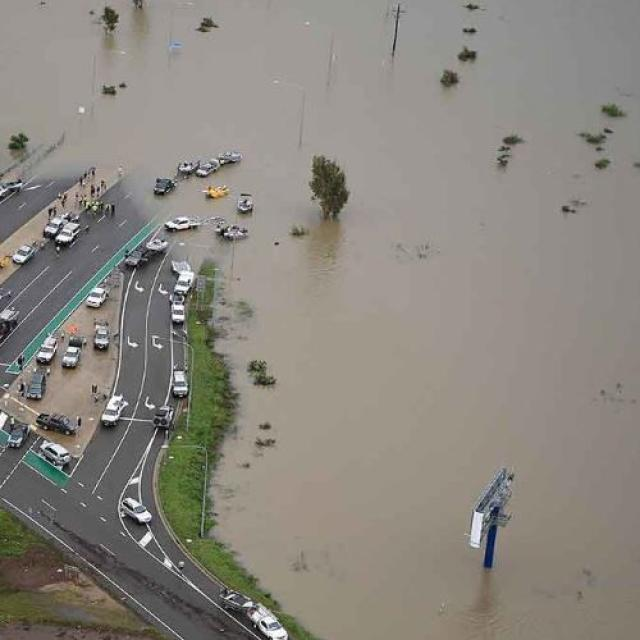flooded_areas: (9, 1, 594, 511)
